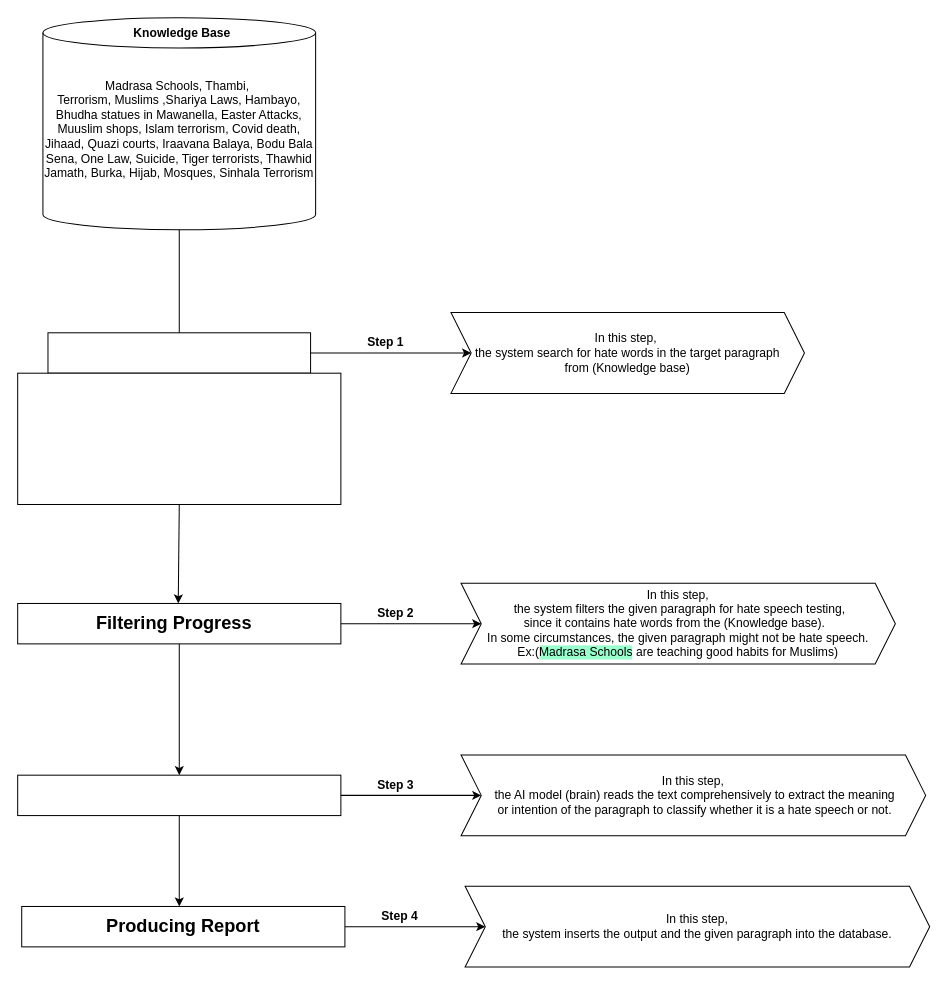
This 947x985 diagram has some shape labels left out. Here are the shapes that lost their labels. From the top down, the centre of each, then its label:
the point at 179,352: Hate word detection
the point at 179,438: Madrasa Schools are teaching terrorism for fu**king Muslims .
the point at 179,795: Hate Speech Testing (AI Brain)
